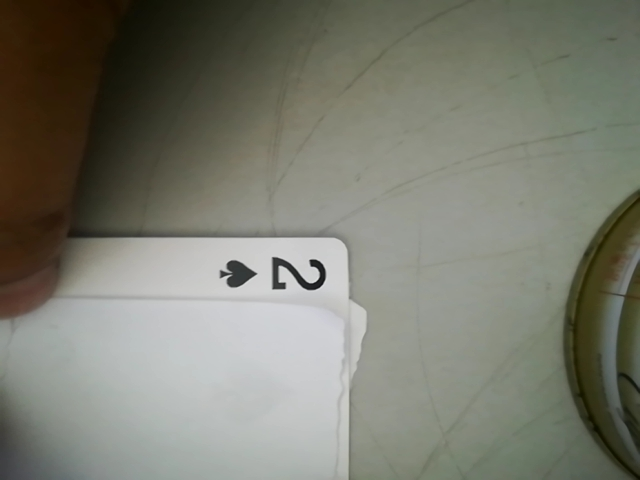ht 2: (212, 242, 347, 305)
